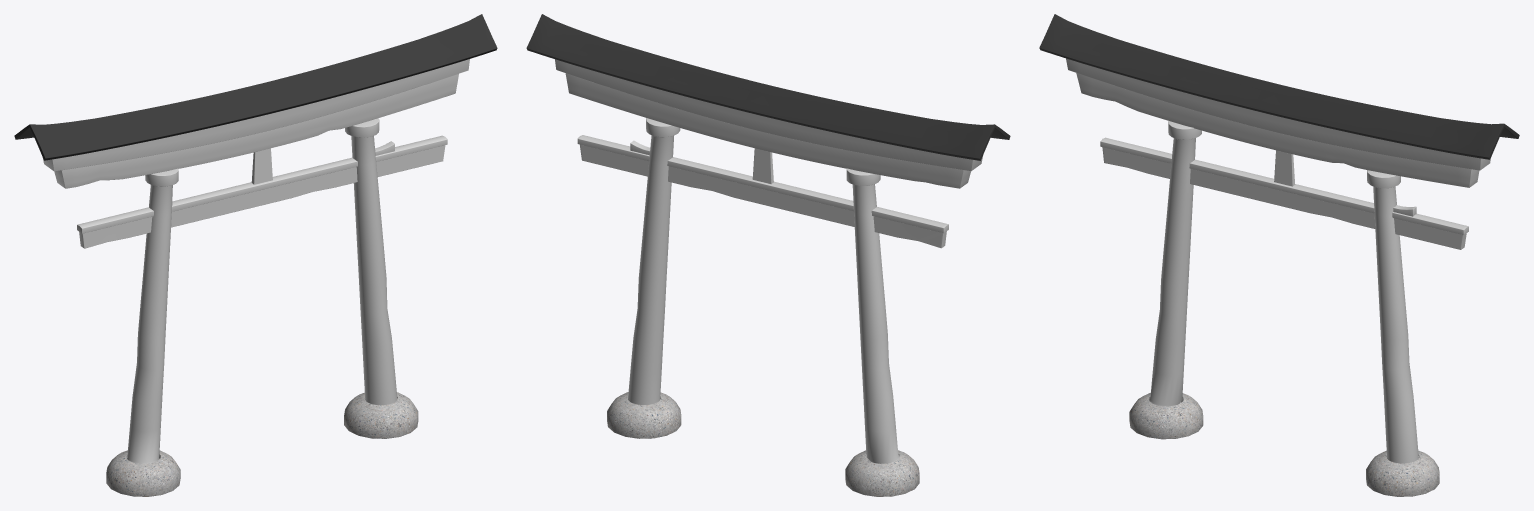
The model's file is torii.opt.glb.
The picture shows the model from 3 angles, left to right: view 1: azimuth 30°, elevation 25°; view 2: azimuth 150°, elevation 25°; view 3: azimuth 330°, elevation 25°; orthographic projection.
Parts seen in each view (by area): view 1: Torii_Mesh; view 2: Torii_Mesh; view 3: Torii_Mesh.
Boxes of the visible parts, x1,y1,x2,y2 form: Torii_Mesh: (14,14,497,496); Torii_Mesh: (526,14,1010,496); Torii_Mesh: (1039,14,1519,496).
Bounding box in the file's own units: 4.76 × 3.86 × 0.6821.
3 materials, 1 textured.
